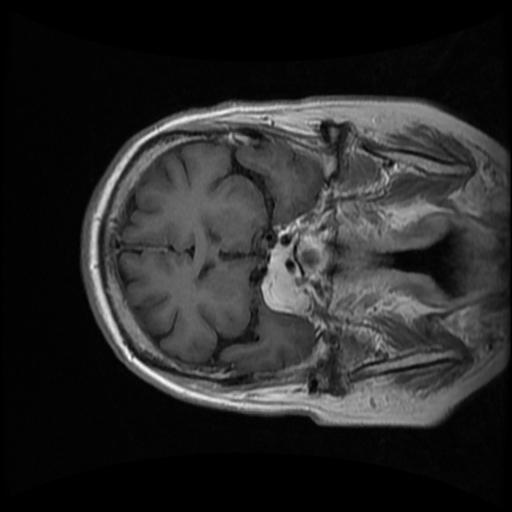meningioma: (262, 222, 312, 316)
